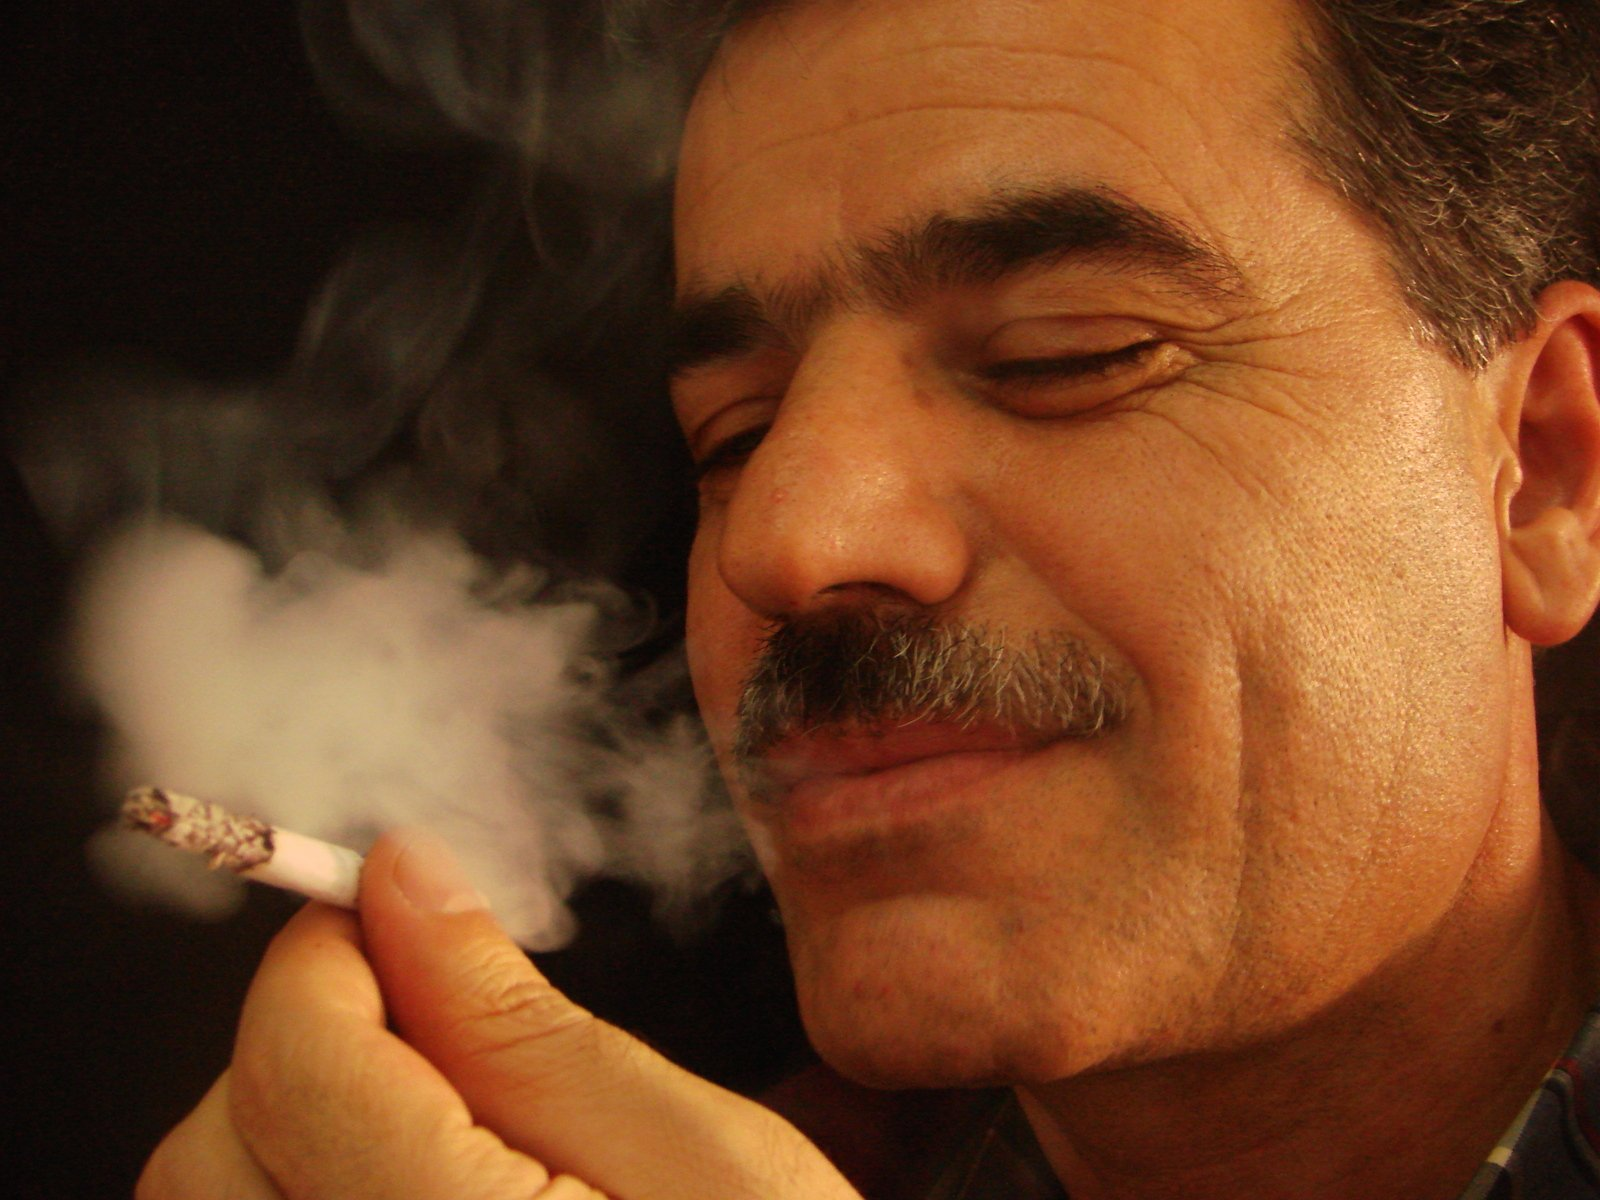cigarette: (112, 773, 370, 913)
